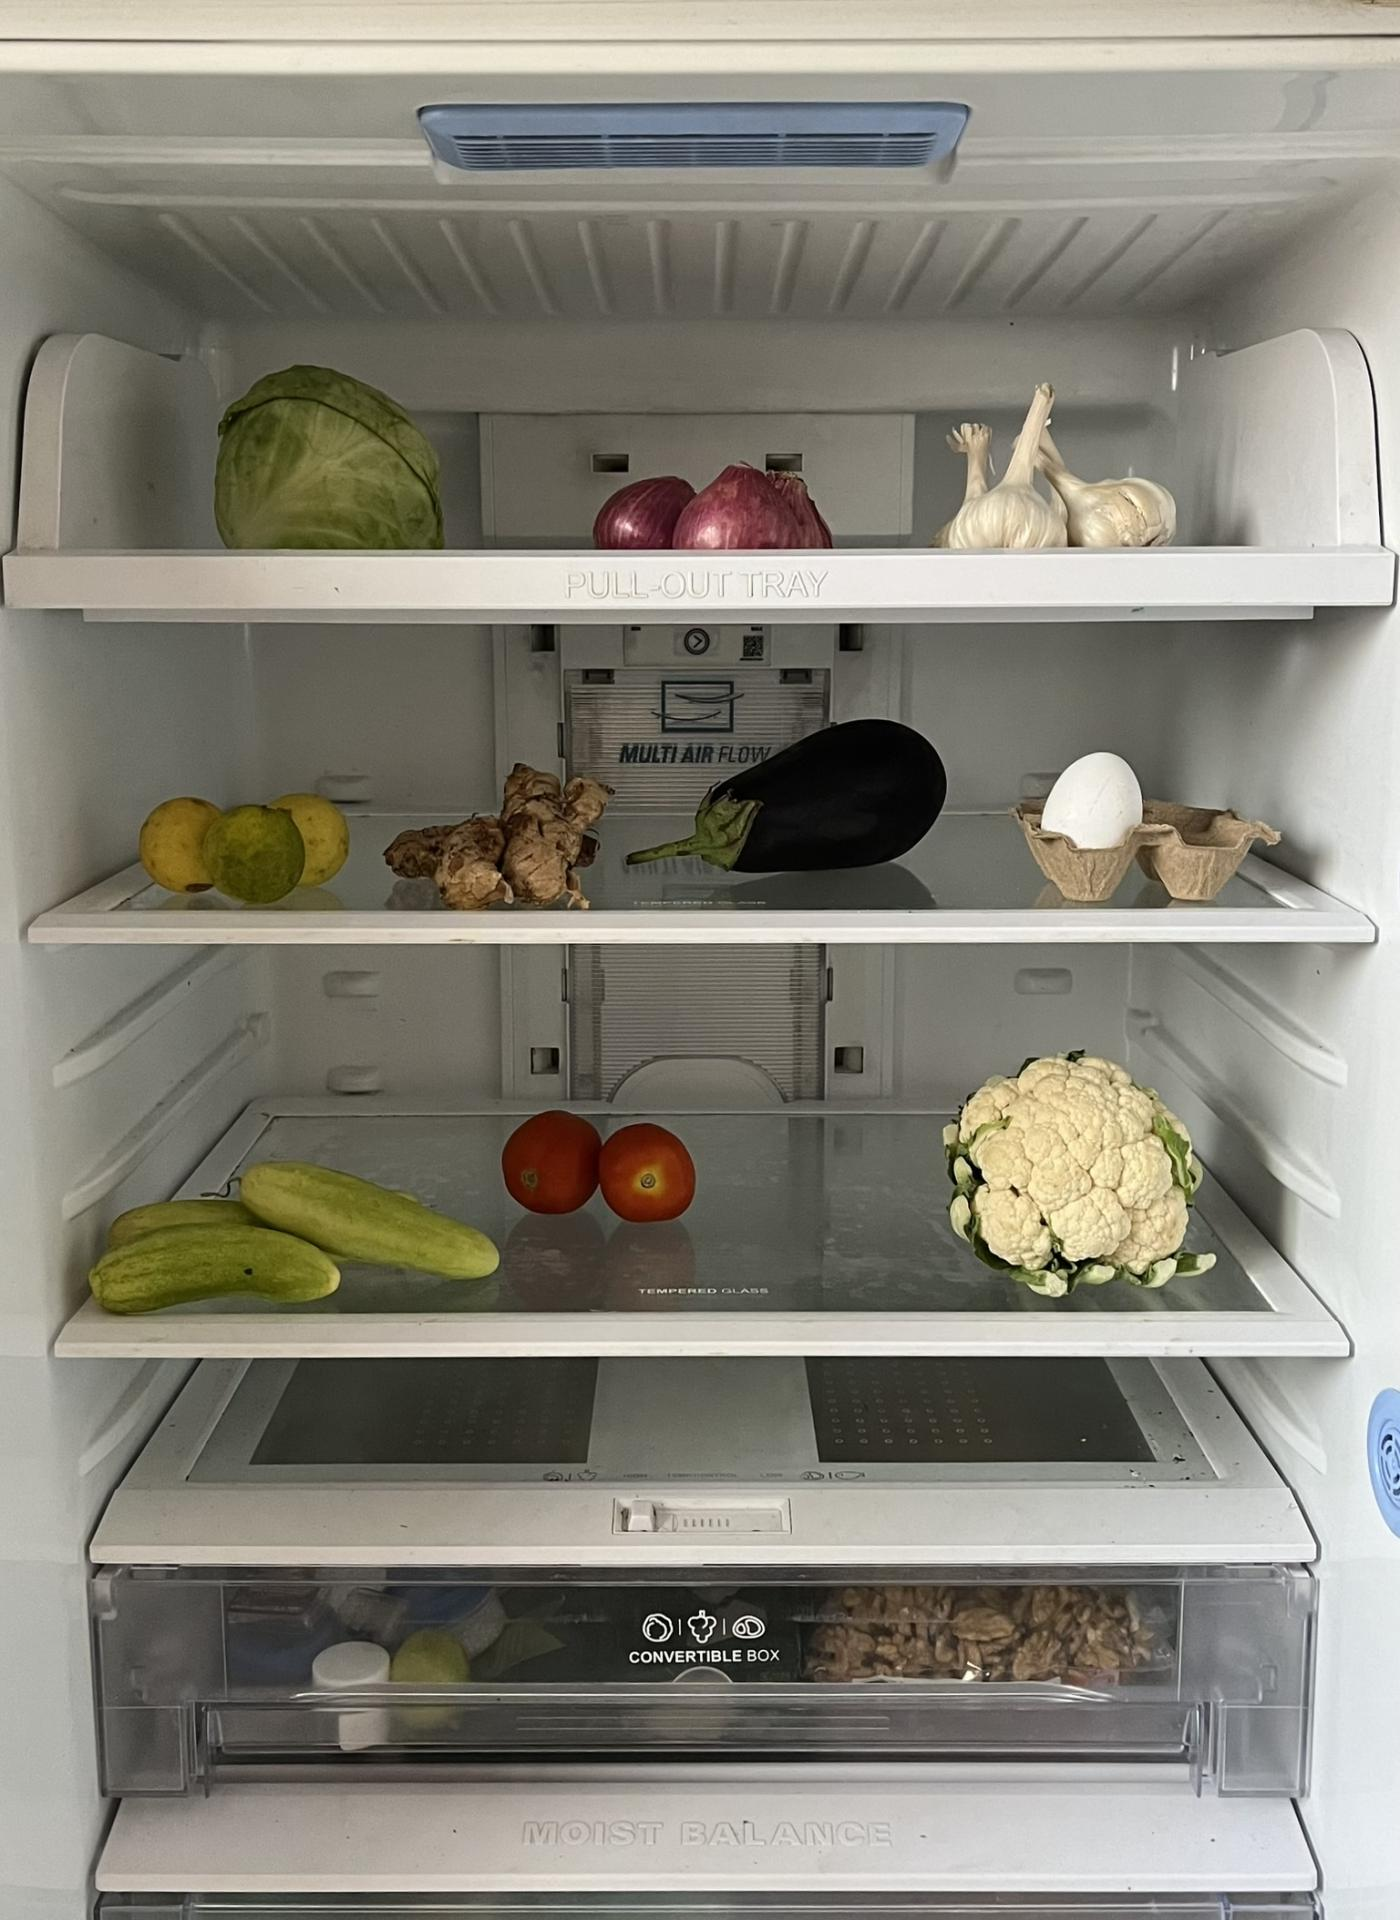cabbage: (213, 350, 440, 550)
cauliflower: (948, 1040, 1206, 1294)
cucumber: (94, 1169, 507, 1309)
egg: (1039, 738, 1142, 884)
garlic: (939, 385, 1176, 547)
ginger: (370, 763, 595, 903)
lemon: (140, 795, 349, 897)
onion: (589, 462, 835, 550)
tomato: (504, 1103, 699, 1222)
